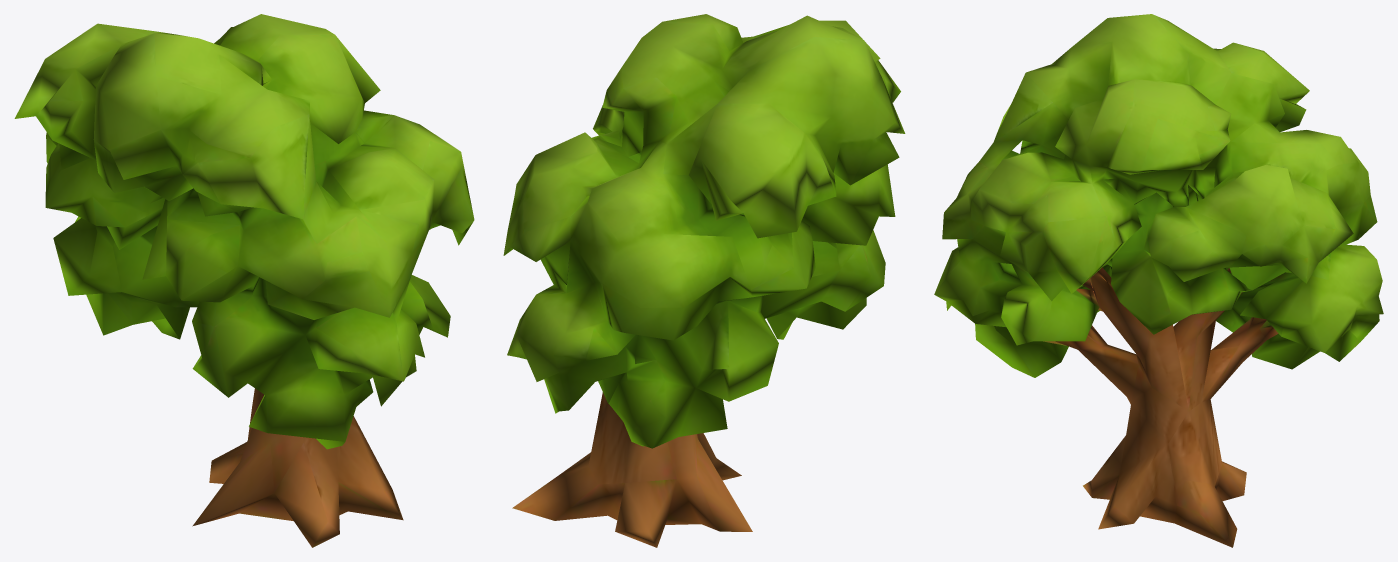
Rendered from oak.glb.
The picture shows the model from 3 angles, left to right: view 1: azimuth 30°, elevation 25°; view 2: azimuth 150°, elevation 25°; view 3: azimuth 270°, elevation 25°; orthographic projection. The views are drawn at different scales.
Visible parts, largest first — view 1: tripo_node_4bdd2033-0a5e-43f1-a7d6-e8d9af521bcc; view 2: tripo_node_4bdd2033-0a5e-43f1-a7d6-e8d9af521bcc; view 3: tripo_node_4bdd2033-0a5e-43f1-a7d6-e8d9af521bcc.
Part boxes in pixels (x1,y1,x2,y2): tripo_node_4bdd2033-0a5e-43f1-a7d6-e8d9af521bcc: (14, 14, 474, 547); tripo_node_4bdd2033-0a5e-43f1-a7d6-e8d9af521bcc: (503, 14, 905, 547); tripo_node_4bdd2033-0a5e-43f1-a7d6-e8d9af521bcc: (934, 14, 1383, 547).
Bounding box in the file's own units: 0.668 × 0.9985 × 0.9461.
Materials: 1 (1 with a texture image).
